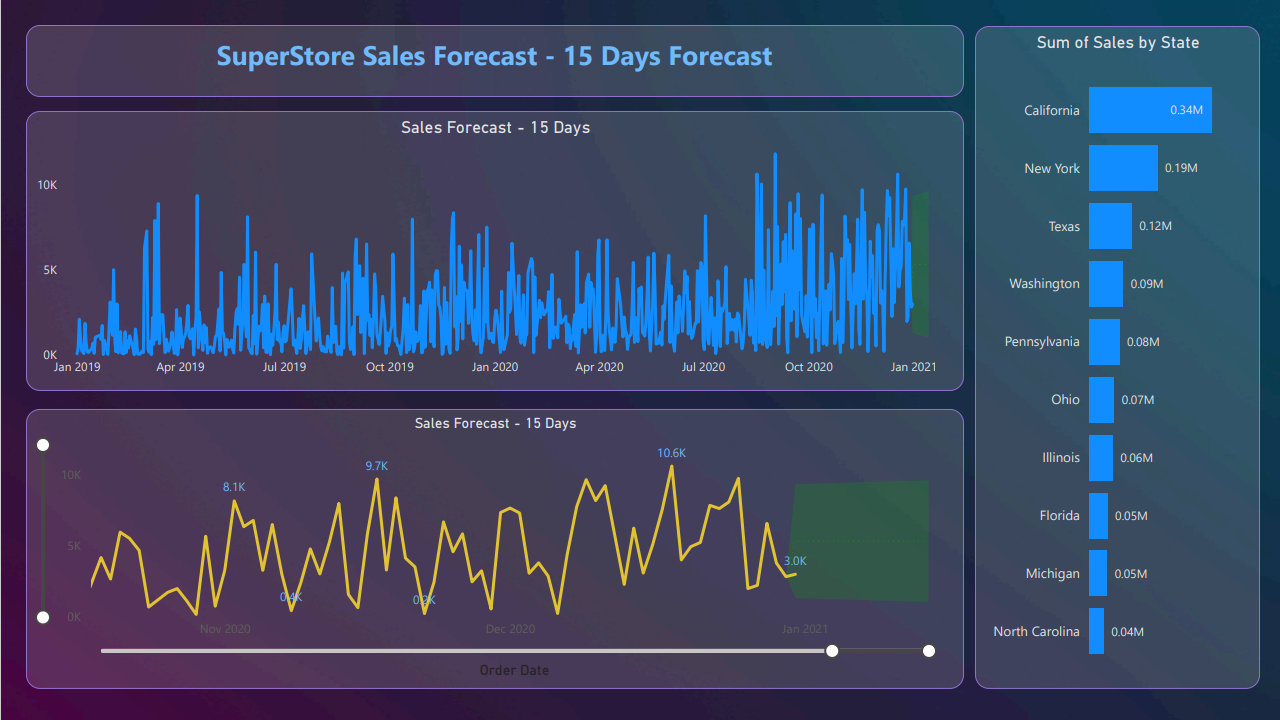

The page's visual inventory and layout, read from the dashboard file:
{"tool":"powerbi","page":{"name":"Sales Forecast","canvas":[1280,720],"ordinal":1},"visuals":[{"type":"lineChart","title":"Sales Forecast - 15 Days","fields":{"Y":["Sum(SuperStore_Sales_Dataset (3.Sales)"],"Category":["SuperStore_Sales_Dataset (3.Order Date"]},"box":[25.3,110.9,937.6,280.1],"z":0},{"type":"lineChart","title":"Sales Forecast - 15 Days","fields":{"Y":["Sum(SuperStore_Sales_Dataset (3.Sales)"],"Category":["SuperStore_Sales_Dataset (3.Order Date"]},"box":[25.3,408.5,937.6,280.1],"z":1000},{"type":"textbox","box":[25.3,25.3,937.6,72],"z":2000},{"type":"clusteredBarChart","fields":{"Category":["SuperStore_Sales_Dataset.State"],"Y":["Sum(SuperStore_Sales_Dataset.Sales)"]},"box":[973.6,25.7,284.6,663.3],"z":3000}]}

Visuals, with their boxes in screenshot pixels (x1, y1, x2, y2), scaled from the page's 1280x720 canvas onto the 1280x720 screenshot:
"Sales Forecast - 15 Days" lineChart: x1=25, y1=111, x2=963, y2=391
"Sales Forecast - 15 Days" lineChart: x1=25, y1=408, x2=963, y2=689
textbox: x1=25, y1=25, x2=963, y2=97
clusteredBarChart - SuperStore_Sales_Dataset.State x Sum(SuperStore_Sales_Dataset.Sales): x1=974, y1=26, x2=1258, y2=689
